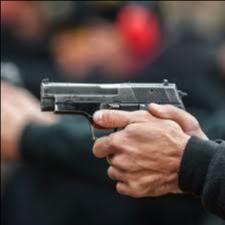gun: (40, 80, 187, 140)
